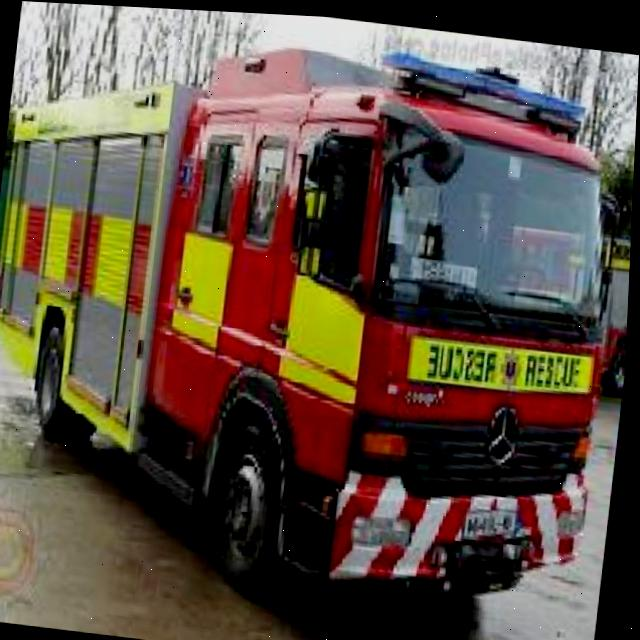emergency: (0, 0, 640, 633)
